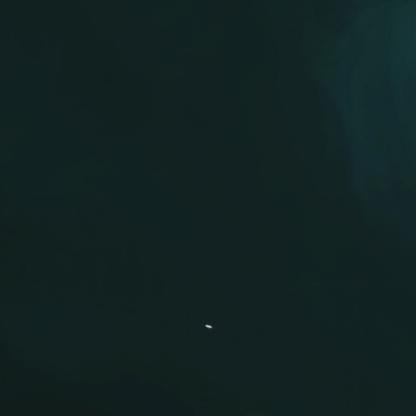ship: (199, 314, 214, 335)
